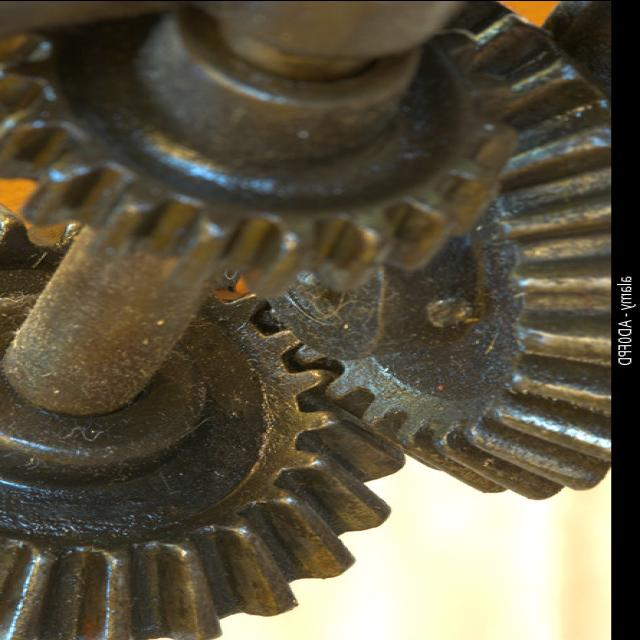Gear: (0, 202, 409, 640), (261, 0, 614, 502), (0, 18, 524, 285)
